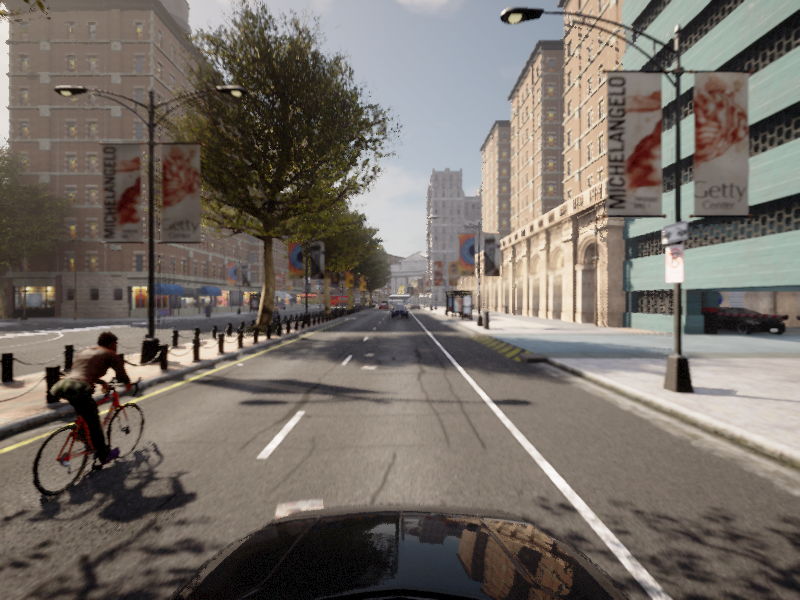vehicle: (1, 328, 165, 510), (268, 304, 283, 321), (391, 305, 408, 318), (261, 303, 274, 317)
